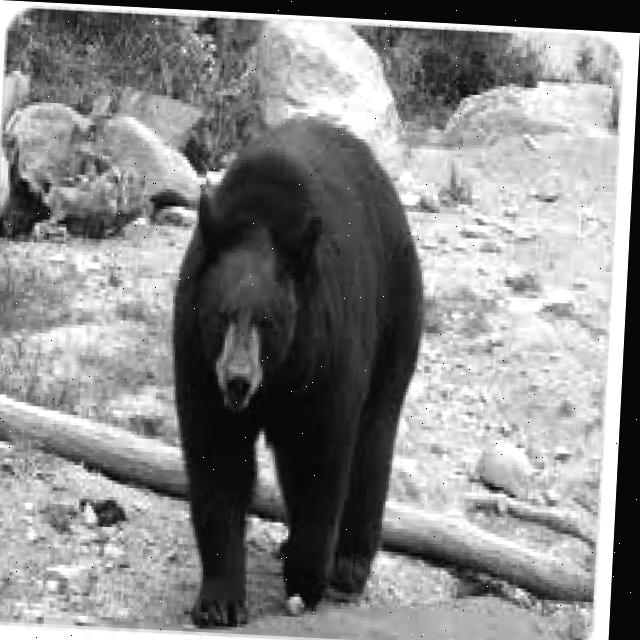Bear: (157, 107, 433, 636)
